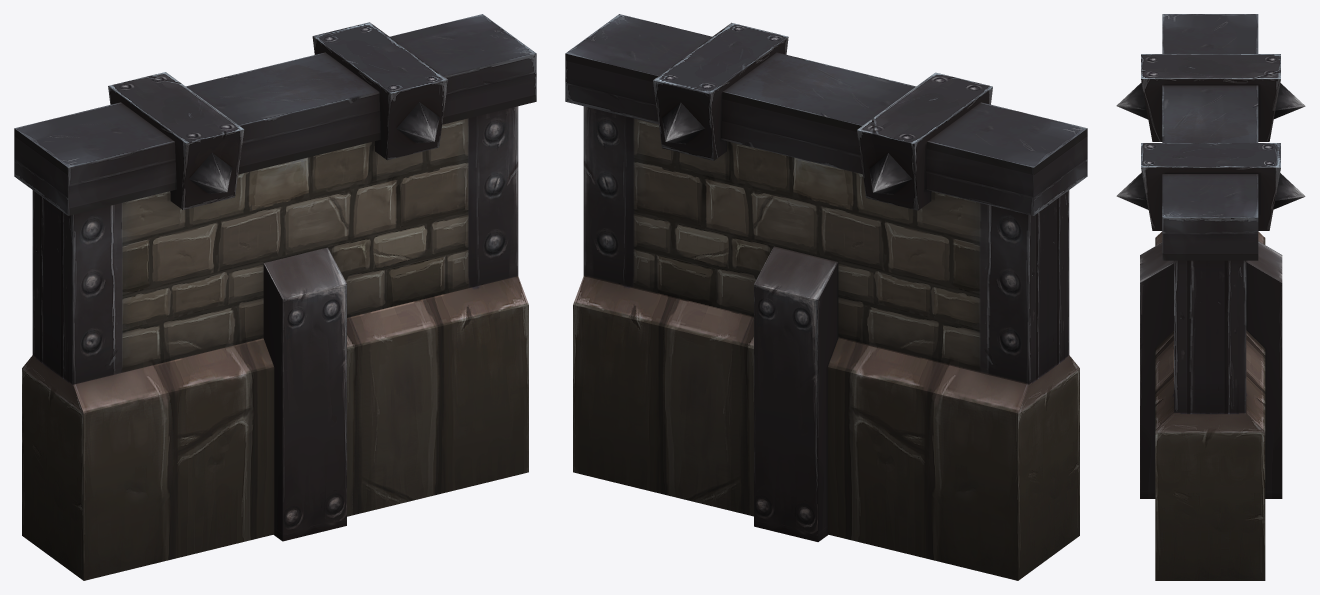
File: Wall_Stone_el2.fbx
3 renders of one model, left to right at view 1: azimuth 30°, elevation 25°; view 2: azimuth 150°, elevation 25°; view 3: azimuth 270°, elevation 25°, orthographic. The views are drawn at different scales.
Visible parts, largest first — view 1: polySurface243; view 2: polySurface243; view 3: polySurface243.
Part boxes in pixels (x1=…): polySurface243: x1=14, y1=14, x2=536, y2=580; polySurface243: x1=565, y1=14, x2=1087, y2=580; polySurface243: x1=1116, y1=14, x2=1305, y2=580.
Size of the model in its own units: 2.48 by 2.13 by 0.9741.
1 material, 1 textured.
